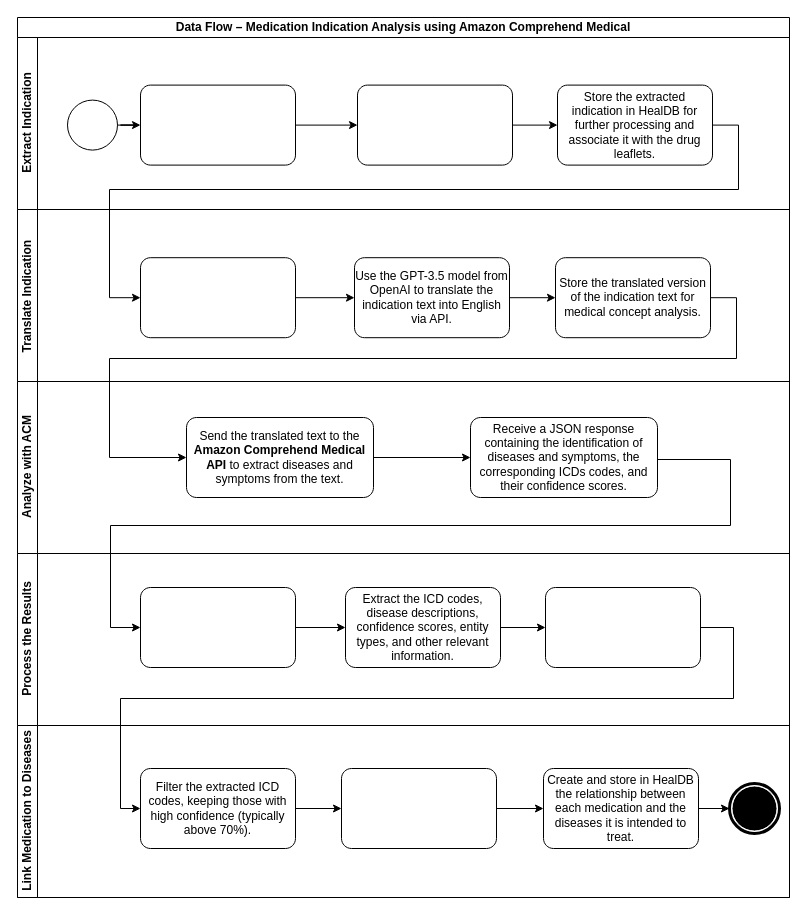
Image size: 807x915. Some labels were removed from this diagram. The shapes that lost their labels are listed below. From the top down, each one's centre as x and y in pixels, then its label:
[218,124]: Retrieve the full text of the drug leaflet store in the database.
[434,124]: Identify and extract the section that describes what the medication is used for.
[218,297]: Prepare the indication text for translation.
[218,627]: Parse the JSON response.
[622,627]: Transform the extracted data into a structured, relational format.
[418,808]: Match the ICD codes to reference disease classifications in the system.
